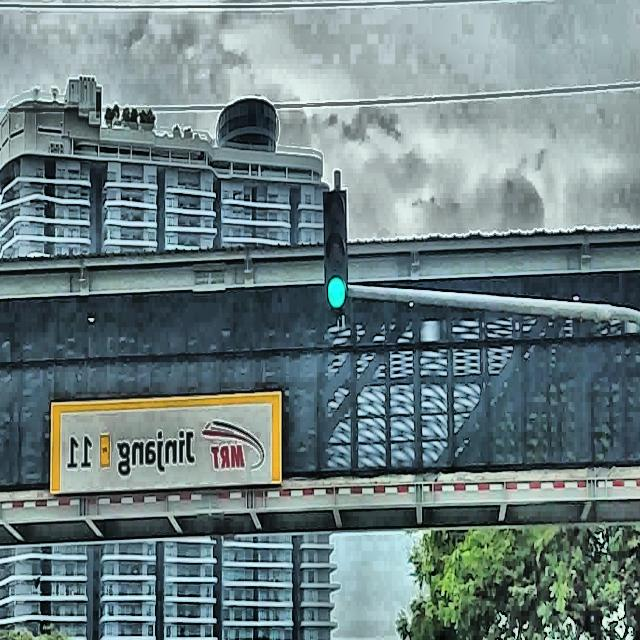green: (323, 191, 349, 310)
